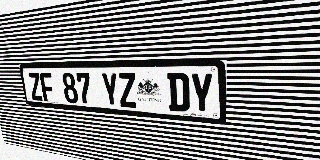7: (75, 73, 93, 105)
8: (61, 73, 79, 104)
D: (167, 73, 190, 112)
F: (39, 72, 56, 102)
Y: (190, 73, 214, 114), (100, 73, 120, 107)
Z: (117, 73, 138, 108), (27, 72, 44, 101)
